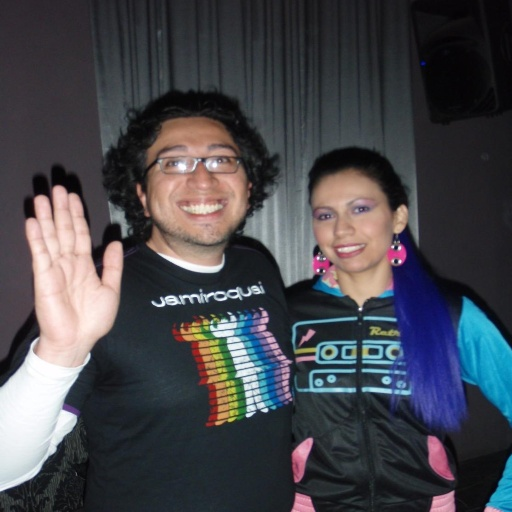hand: (16, 168, 113, 371)
